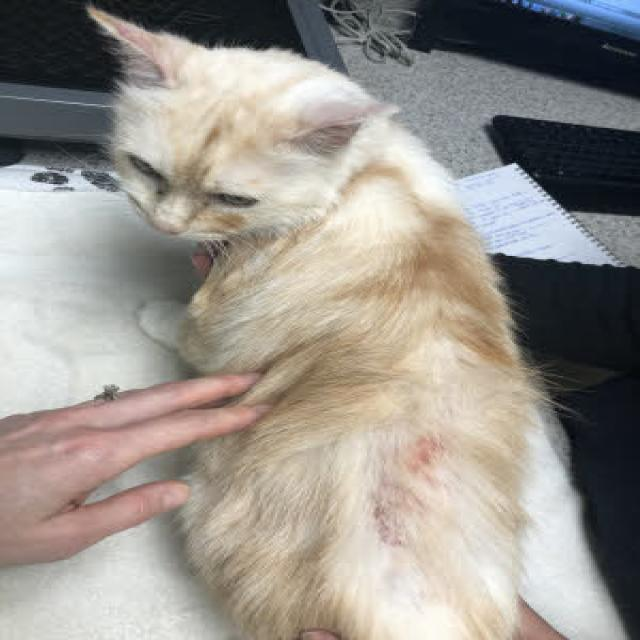cat-hairloss: (372, 439, 472, 555)
